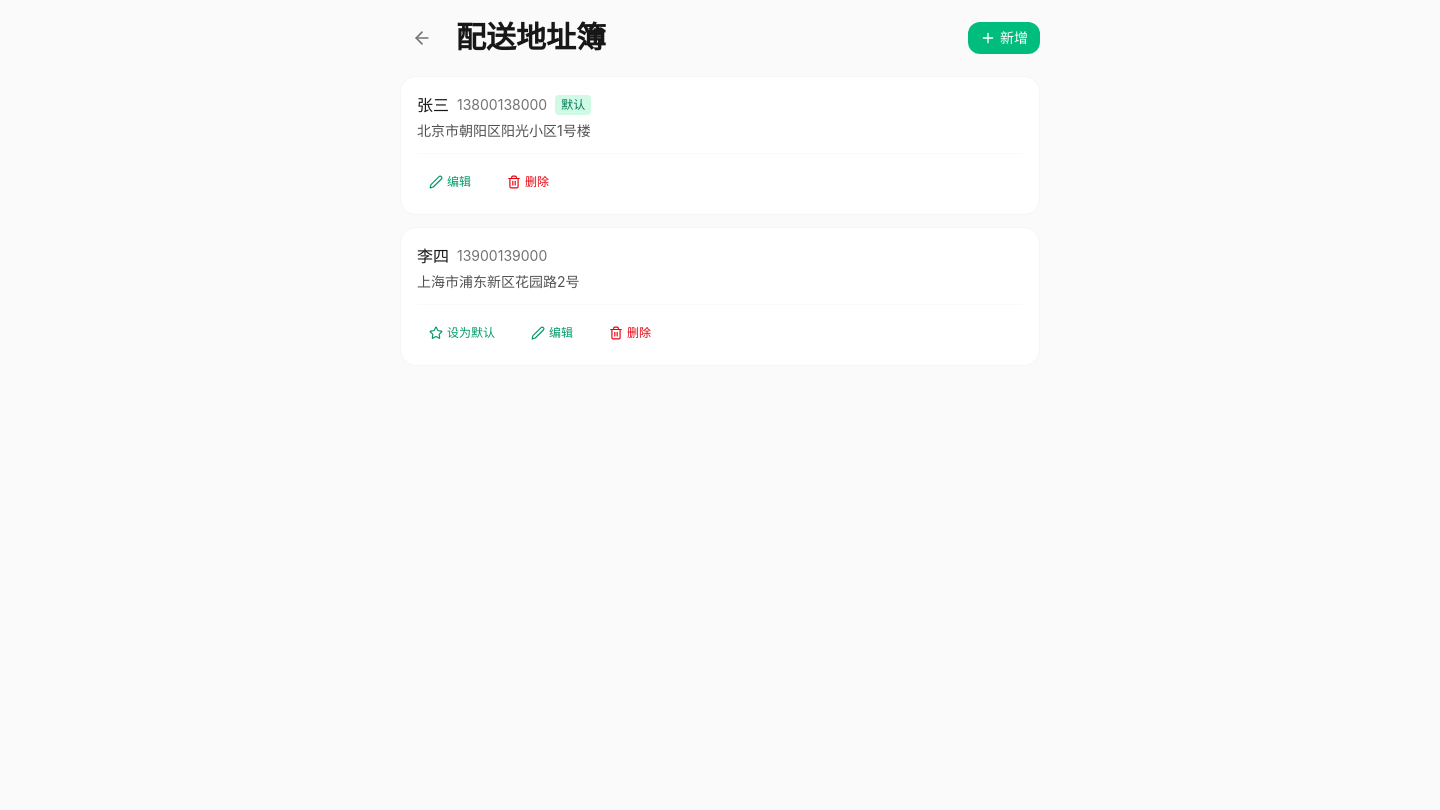
AddressBook 配送地址簿 › 点击"新增"打开弹窗显示"新增地址"标题
This screenshot has width=1440, height=810.
Expected: the text "张三" is shown, [417, 93, 449, 117]
Click the button "新增".
click(1004, 38)  # box [968, 22, 1040, 54]
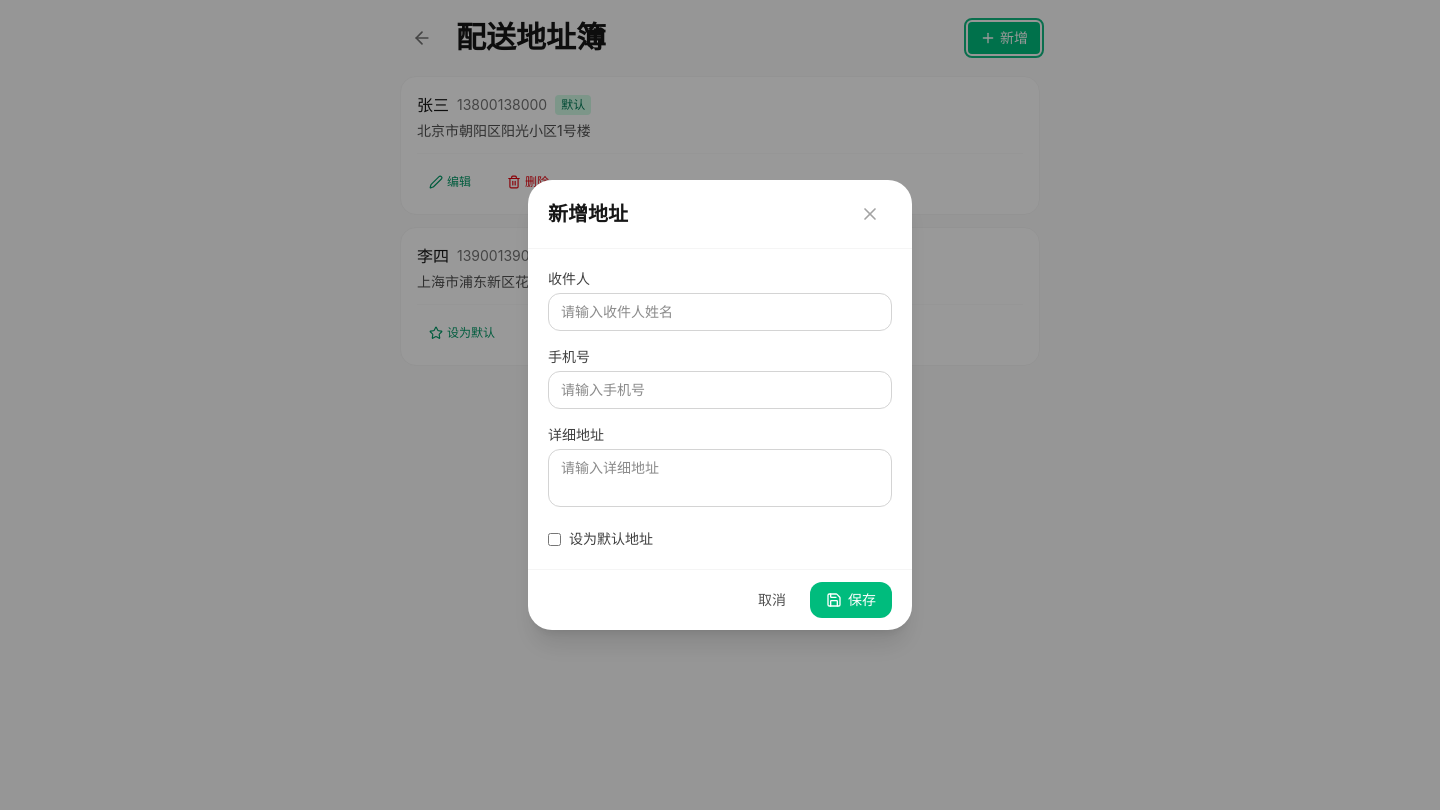
Expected: the heading "新增地址" is shown, [548, 202, 628, 226]
Expected: the field with placeholder "请输入收件人姓名" is shown, [548, 293, 892, 331]
Expected: the field with placeholder "请输入手机号" is shown, [548, 371, 892, 409]
